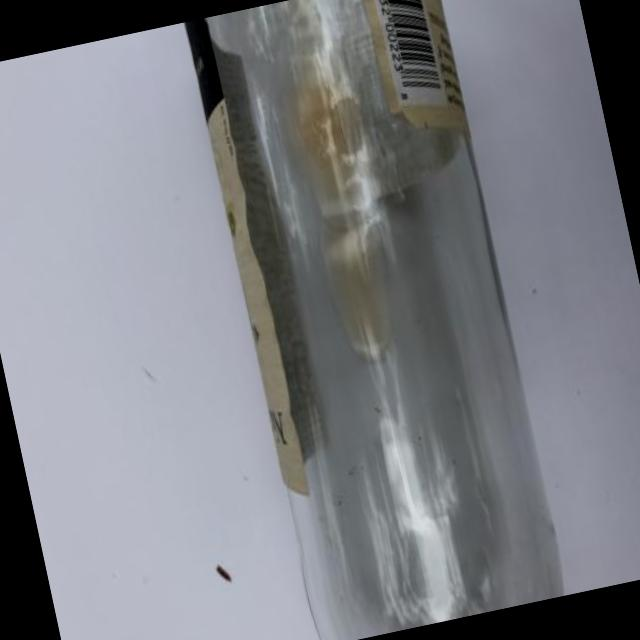chai_thuy_tinh: (187, 0, 564, 640)
